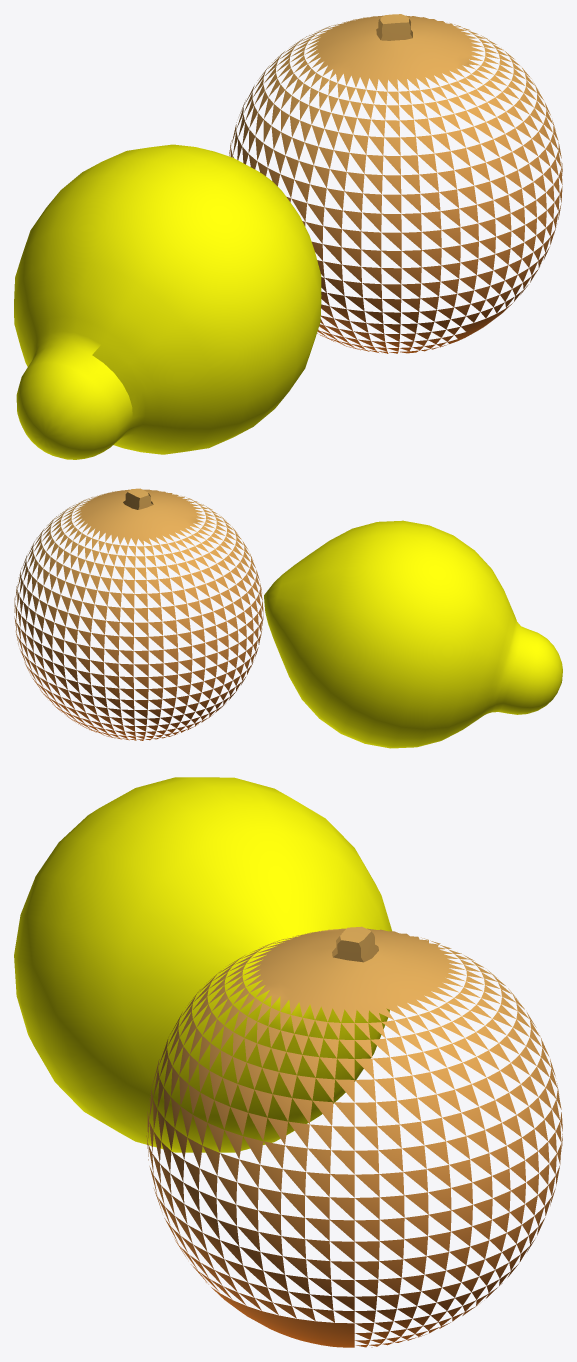
Rendered from orange28.glb.
The picture shows the model from 3 angles, top to bottom: view 1: azimuth 30°, elevation 25°; view 2: azimuth 150°, elevation 25°; view 3: azimuth 270°, elevation 25°; orthographic projection. The views are drawn at different scales.
Bounding box in the file's own units: 0.6286 × 0.3159 × 0.3939.
